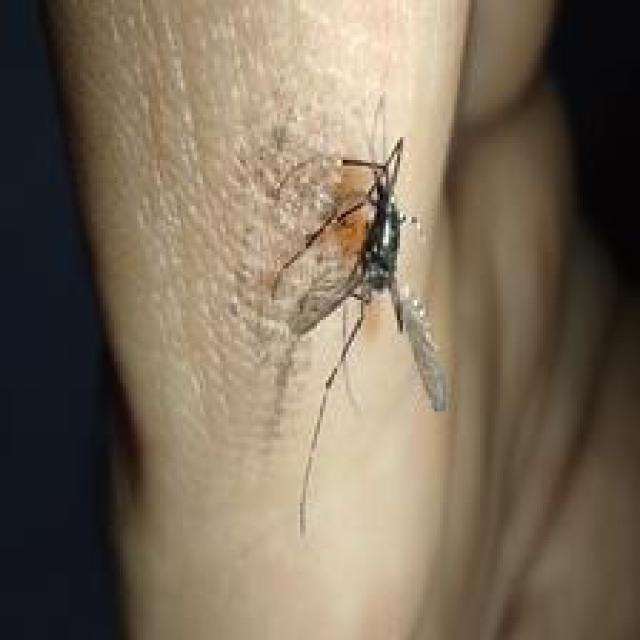Aedes albopictus: (266, 100, 451, 537)
